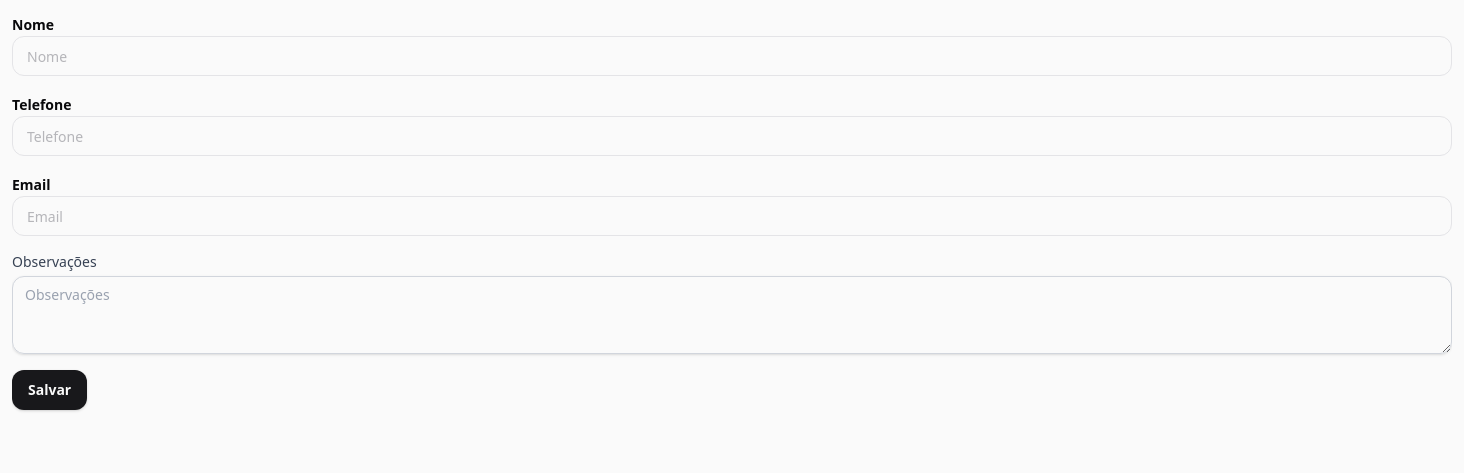
ClientForm › shows validation error for empty name
The image size is (1464, 473).
Click the button "Salvar": (50, 390) [12,370,87,410]
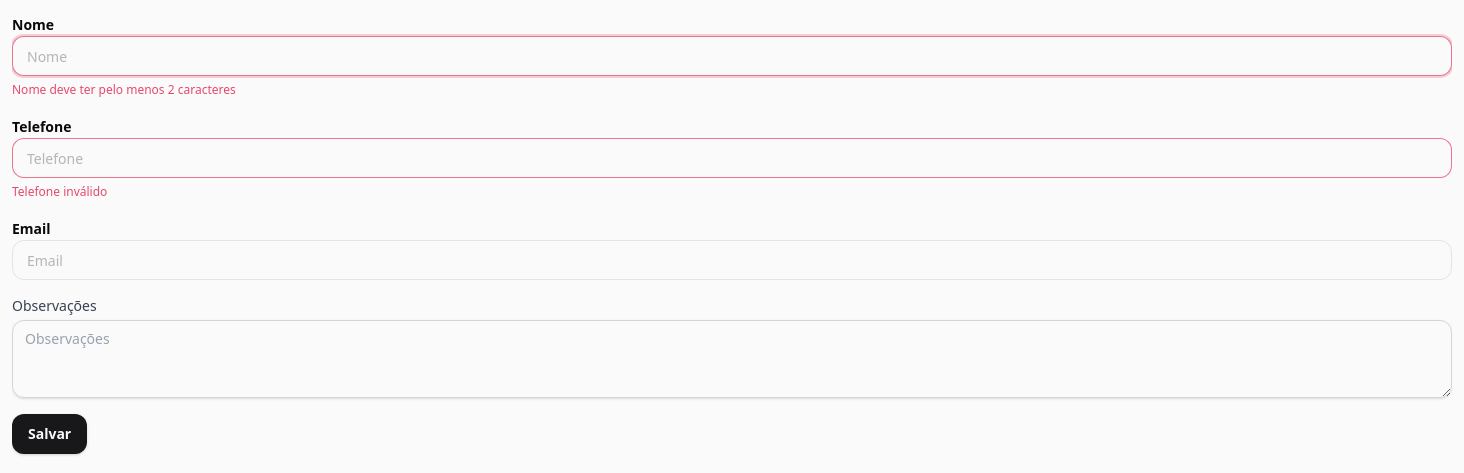
Check: the text "Nome deve ter pelo menos 2 caracteres" is shown, box [12,81,236,98]
